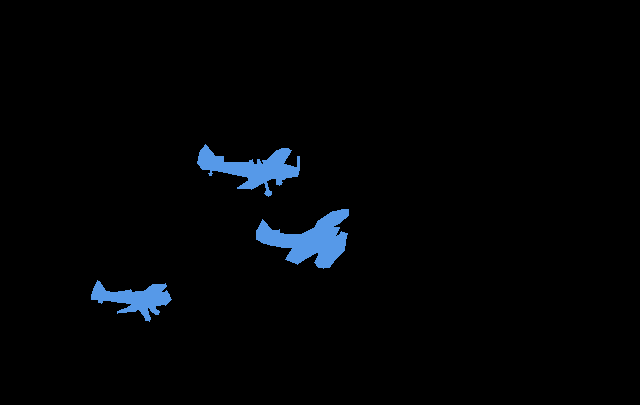Airplane: (256, 209, 348, 269), (197, 144, 300, 196), (91, 280, 172, 322)
